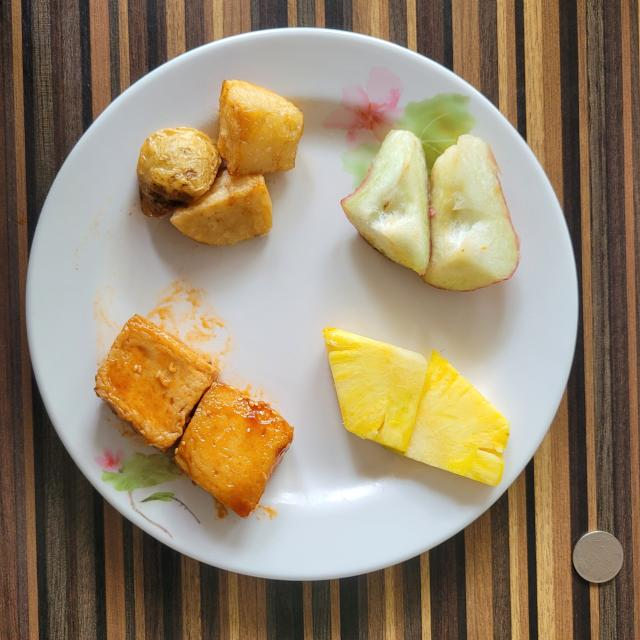coin: (572, 531, 624, 582)
creamy tofu: (95, 315, 294, 518)
fried potato: (138, 80, 304, 244)
pineapple: (324, 328, 509, 485)
